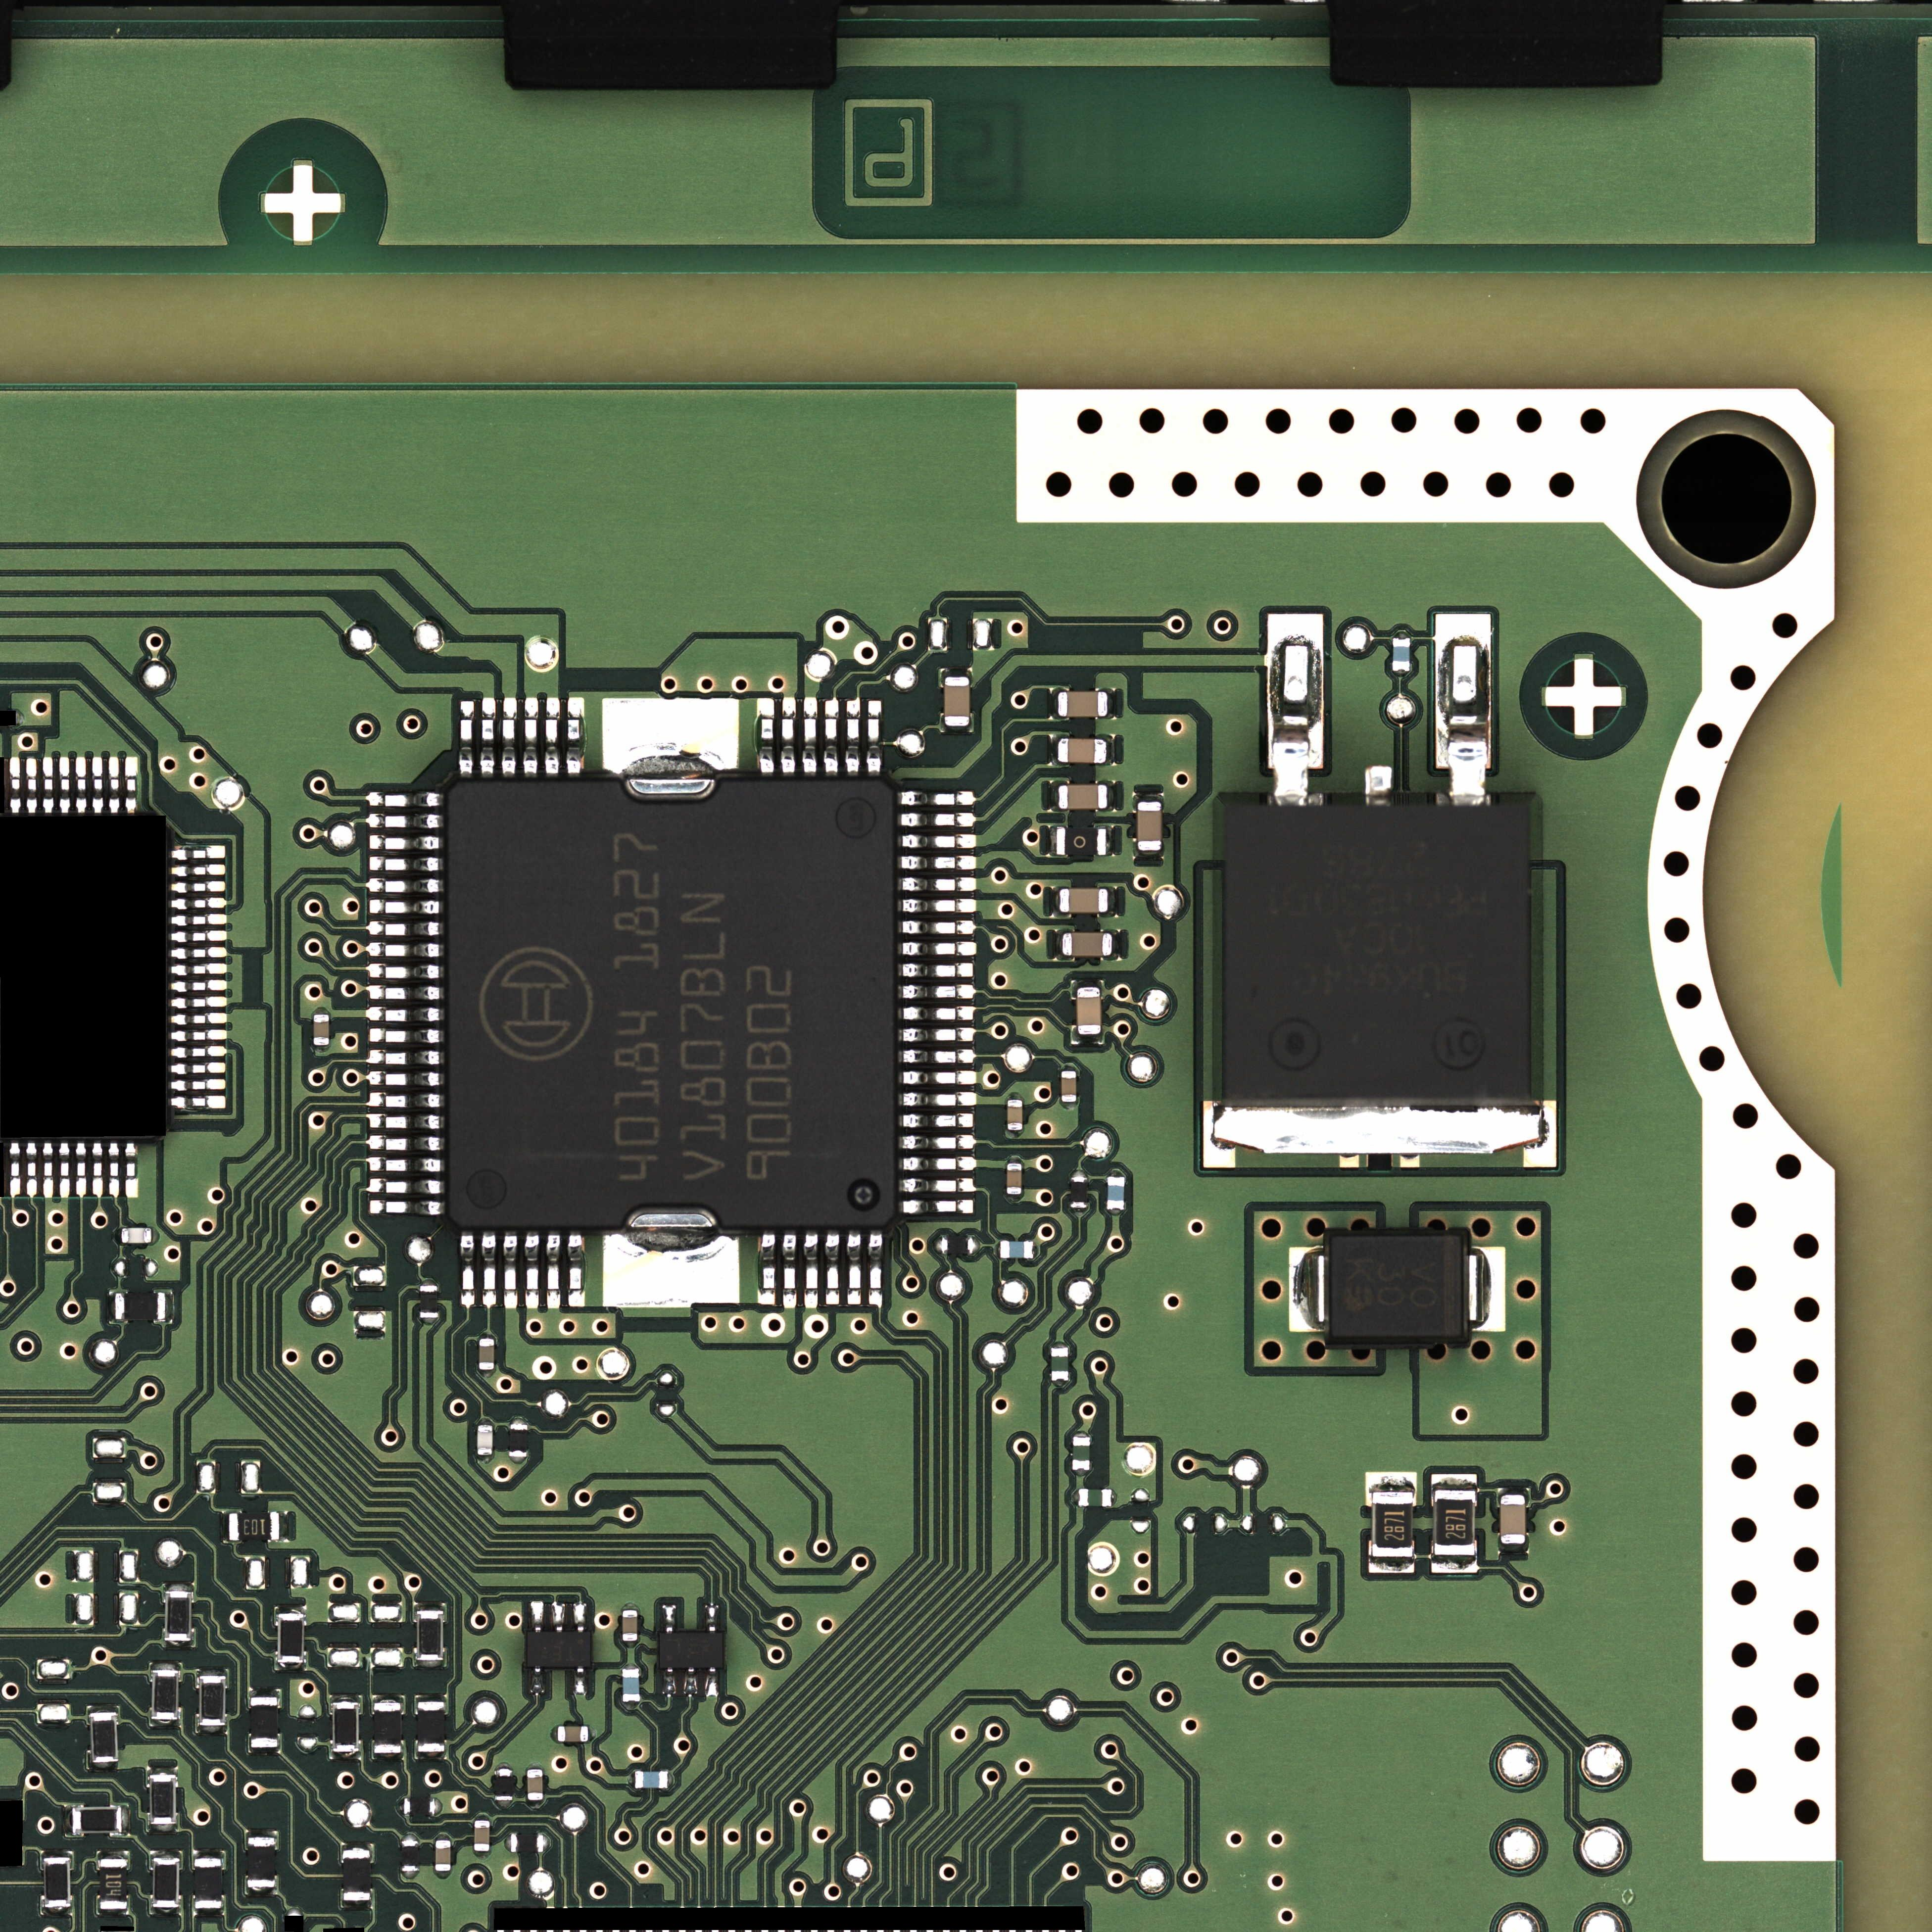Package: (446, 775, 897, 1230), (1223, 805, 1532, 1099), (1330, 1235, 1463, 1339), (1371, 1491, 1414, 1557), (1433, 1490, 1476, 1555), (658, 1633, 724, 1668), (527, 1631, 591, 1667), (228, 1513, 280, 1541), (99, 1858, 127, 1909), (249, 1697, 278, 1746), (373, 1704, 402, 1753), (1056, 828, 1106, 856), (343, 1849, 370, 1900), (418, 1702, 444, 1752), (115, 1293, 165, 1320), (195, 1858, 221, 1907), (248, 1838, 274, 1888), (278, 1614, 304, 1663), (152, 1858, 179, 1907), (1058, 784, 1108, 810), (1062, 932, 1113, 957), (150, 1775, 175, 1824), (418, 1610, 442, 1660), (44, 1858, 69, 1907), (73, 1808, 122, 1833), (333, 1702, 357, 1752), (92, 1713, 117, 1762), (152, 1670, 177, 1720), (200, 1675, 225, 1725), (1058, 888, 1108, 913), (1058, 692, 1108, 717), (1138, 801, 1162, 851), (1500, 1495, 1525, 1545), (166, 1592, 191, 1640), (1058, 738, 1106, 763), (945, 678, 970, 725), (1077, 987, 1100, 1035), (419, 1284, 439, 1318), (511, 1833, 543, 1852), (1392, 637, 1410, 671), (1072, 1437, 1090, 1470), (1000, 1240, 1033, 1258), (495, 1769, 513, 1801), (635, 1771, 667, 1789), (510, 1424, 527, 1456), (941, 1237, 973, 1254), (403, 1798, 435, 1815), (1051, 1348, 1069, 1380), (1070, 1177, 1088, 1208), (623, 1668, 639, 1702), (1108, 1177, 1123, 1210), (313, 1014, 329, 1046), (1079, 1490, 1111, 1506), (1062, 1070, 1077, 1102), (527, 1769, 543, 1799), (402, 1842, 418, 1872), (122, 1228, 152, 1244), (478, 1424, 494, 1454), (435, 1840, 451, 1870), (557, 1725, 587, 1741), (474, 1821, 490, 1851), (1007, 1100, 1023, 1131), (1007, 1164, 1023, 1194), (623, 1610, 637, 1640), (479, 1339, 494, 1369)
Solder: (1203, 1100, 1557, 1168), (1267, 614, 1323, 805), (1435, 614, 1491, 803), (602, 1231, 741, 1307), (603, 697, 740, 775), (1463, 1246, 1506, 1332), (1288, 1247, 1329, 1332), (757, 697, 775, 775), (566, 697, 584, 775), (759, 1231, 777, 1306), (366, 1007, 444, 1023), (780, 697, 796, 775), (899, 812, 977, 828), (801, 697, 817, 775), (899, 941, 977, 957), (366, 814, 442, 830), (366, 793, 442, 809), (366, 964, 442, 980), (366, 878, 442, 893), (366, 943, 442, 959), (366, 985, 442, 1001), (901, 833, 977, 849), (899, 791, 975, 807), (901, 855, 977, 870), (901, 899, 977, 915), (901, 920, 977, 936), (524, 1233, 540, 1309), (899, 1113, 975, 1129), (901, 1134, 977, 1150), (901, 1092, 977, 1108), (901, 1070, 977, 1086), (368, 856, 442, 872), (368, 835, 442, 851), (368, 899, 442, 915), (368, 1049, 442, 1065), (368, 1113, 442, 1129), (368, 1157, 442, 1173), (368, 1136, 442, 1152), (368, 1178, 442, 1194), (368, 1028, 442, 1044), (368, 1070, 442, 1086), (901, 962, 975, 978), (568, 1233, 584, 1307), (901, 1200, 975, 1215), (901, 984, 975, 1000), (370, 1200, 442, 1215), (524, 697, 538, 777), (502, 697, 517, 777), (481, 697, 495, 777), (545, 697, 559, 777), (824, 697, 839, 775), (899, 878, 977, 892), (869, 1230, 883, 1307), (899, 1178, 977, 1192), (460, 701, 474, 777), (846, 699, 860, 775), (782, 1231, 796, 1307), (803, 1231, 817, 1307), (504, 1233, 518, 1309), (481, 1233, 495, 1309), (901, 1157, 977, 1171), (368, 922, 442, 936), (368, 1093, 442, 1108), (867, 701, 881, 775), (826, 1231, 840, 1306), (547, 1233, 561, 1307), (901, 1028, 975, 1042), (901, 1049, 975, 1063), (901, 1007, 975, 1021), (1366, 766, 1392, 805), (460, 1235, 474, 1307), (847, 1231, 862, 1304), (1366, 1472, 1415, 1491), (1431, 1555, 1479, 1573), (172, 913, 226, 927), (172, 978, 226, 993), (1369, 1557, 1415, 1573), (1431, 1474, 1477, 1490), (170, 1012, 226, 1024), (170, 1030, 226, 1042), (170, 996, 226, 1008), (172, 931, 226, 943), (172, 947, 226, 959), (172, 964, 226, 977), (126, 1143, 138, 1198), (108, 1141, 120, 1196), (92, 1141, 104, 1196), (74, 1141, 87, 1196), (58, 1143, 71, 1198), (41, 1141, 53, 1196), (25, 1141, 37, 1196), (7, 1141, 19, 1196), (172, 846, 225, 858), (172, 865, 225, 878), (172, 881, 225, 893), (172, 899, 225, 911), (172, 1046, 225, 1058), (172, 1079, 225, 1092), (27, 757, 37, 814), (92, 757, 103, 814), (126, 757, 136, 814), (11, 757, 21, 812), (42, 757, 53, 812), (76, 757, 87, 812), (108, 757, 119, 812), (170, 1063, 225, 1074), (172, 1097, 226, 1108), (60, 757, 69, 812), (531, 1667, 545, 1695), (573, 1668, 587, 1695), (531, 1601, 543, 1631), (663, 1605, 676, 1633), (706, 1668, 718, 1697), (552, 1603, 564, 1631), (573, 1603, 586, 1631), (62, 1805, 73, 1836), (246, 1828, 278, 1838), (1047, 780, 1058, 812), (663, 1668, 676, 1695), (706, 1605, 718, 1631), (685, 1668, 697, 1695), (1049, 886, 1060, 916), (1108, 886, 1118, 916), (1106, 736, 1116, 766), (1072, 1035, 1102, 1046), (1499, 1543, 1529, 1553), (165, 1582, 193, 1592), (99, 1849, 127, 1859), (373, 1693, 402, 1704), (341, 1842, 373, 1851), (340, 1900, 372, 1909), (941, 725, 973, 734), (1047, 824, 1056, 856), (1049, 734, 1058, 766), (1049, 688, 1058, 720), (416, 1693, 446, 1702), (193, 1849, 223, 1858), (249, 1688, 280, 1697), (147, 1766, 177, 1775), (150, 1849, 180, 1858), (150, 1907, 180, 1916), (941, 667, 971, 676), (1053, 929, 1062, 959), (1108, 688, 1116, 718), (1134, 793, 1164, 801), (1106, 826, 1115, 856), (1113, 929, 1122, 959), (1134, 851, 1164, 860), (331, 1693, 359, 1702), (198, 1725, 226, 1734), (42, 1907, 71, 1916), (416, 1660, 444, 1668), (1108, 782, 1116, 810), (1499, 1486, 1527, 1495), (221, 1511, 228, 1543), (87, 1706, 119, 1713), (246, 1888, 276, 1895), (88, 1762, 119, 1769), (276, 1663, 306, 1670), (196, 1668, 226, 1675), (150, 1663, 180, 1670), (276, 1606, 306, 1614), (416, 1752, 446, 1759), (99, 1909, 129, 1916), (42, 1851, 73, 1858), (280, 1511, 287, 1541), (120, 1805, 127, 1835), (373, 1753, 403, 1760), (1072, 980, 1102, 987), (166, 1292, 173, 1320), (108, 1293, 115, 1322), (149, 1824, 177, 1831), (195, 1909, 223, 1916), (150, 1720, 179, 1727), (165, 1640, 193, 1647), (416, 1603, 444, 1610), (331, 1752, 359, 1759), (249, 1748, 280, 1753), (476, 1417, 494, 1426), (495, 1801, 513, 1810), (150, 1228, 159, 1244), (435, 1870, 451, 1879), (402, 1833, 418, 1842), (478, 1369, 494, 1378), (527, 1799, 543, 1808), (587, 1725, 596, 1741), (478, 1454, 494, 1463), (1007, 1194, 1023, 1203), (1007, 1092, 1023, 1100), (419, 1318, 439, 1325), (400, 1872, 419, 1879), (504, 1833, 511, 1852), (508, 1456, 527, 1463), (113, 1228, 122, 1242), (396, 1798, 403, 1815), (510, 1417, 527, 1424), (623, 1702, 640, 1709), (543, 1835, 550, 1852), (667, 1771, 674, 1789), (628, 1771, 635, 1789), (1392, 630, 1410, 637), (1392, 671, 1410, 678), (1051, 1341, 1069, 1348), (1051, 1380, 1069, 1387), (993, 1240, 1000, 1258), (1070, 1169, 1088, 1177), (1108, 1169, 1125, 1177), (1072, 1430, 1090, 1437), (313, 1007, 329, 1014), (313, 1046, 329, 1053), (435, 1799, 442, 1815), (474, 1813, 490, 1821), (435, 1833, 451, 1840), (474, 1851, 490, 1858), (479, 1332, 495, 1339), (550, 1725, 557, 1741), (527, 1762, 543, 1769), (495, 1762, 511, 1769), (1007, 1131, 1023, 1138), (1007, 1155, 1023, 1162), (1062, 1102, 1077, 1109), (973, 1237, 980, 1253), (1062, 1063, 1077, 1070), (1070, 1490, 1077, 1506), (934, 1238, 941, 1253), (623, 1603, 637, 1610), (419, 1279, 437, 1284), (1070, 1208, 1088, 1214), (1113, 1490, 1118, 1507), (1072, 1470, 1090, 1476), (18, 709, 23, 727), (623, 1663, 639, 1668), (1108, 1210, 1123, 1215), (1033, 1242, 1039, 1258), (623, 1642, 637, 1647)
